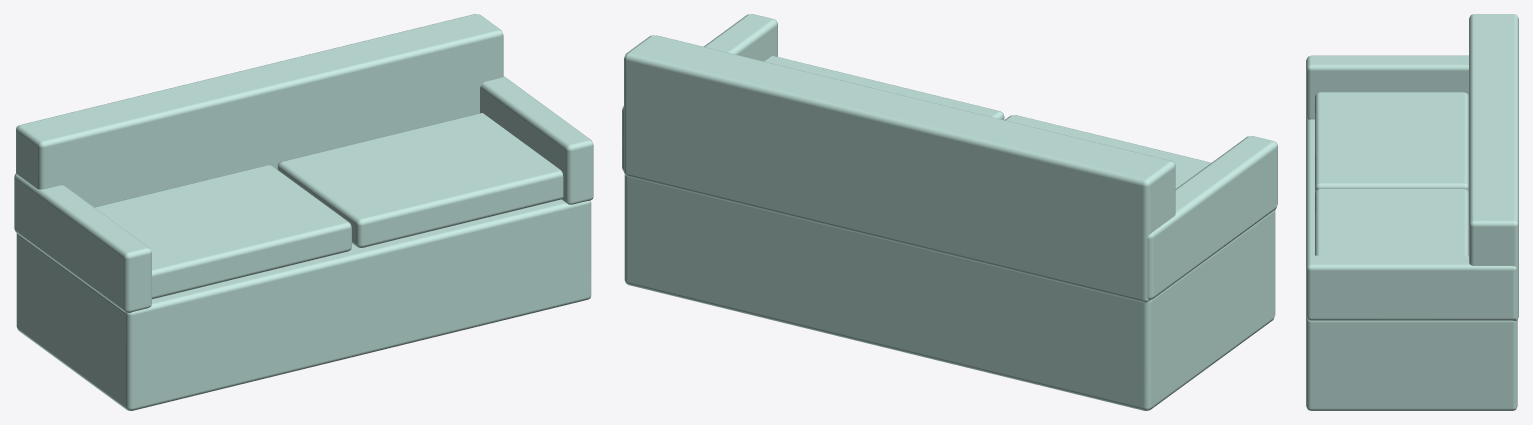
File: SM_LobbySofa.fbx
3 renders of one model, left to right at view 1: azimuth 30°, elevation 25°; view 2: azimuth 150°, elevation 25°; view 3: azimuth 270°, elevation 25°, orthographic. The views are drawn at different scales.
Parts seen in each view (by area): view 1: SM_LobbySofa; view 2: SM_LobbySofa; view 3: SM_LobbySofa.
Boxes of the visible parts, x1=… form: SM_LobbySofa: x1=14, y1=14, x2=593, y2=410; SM_LobbySofa: x1=622, y1=14, x2=1277, y2=410; SM_LobbySofa: x1=1306, y1=14, x2=1518, y2=410.
Bounding box in the file's own units: 2.02 × 0.845 × 0.855.
